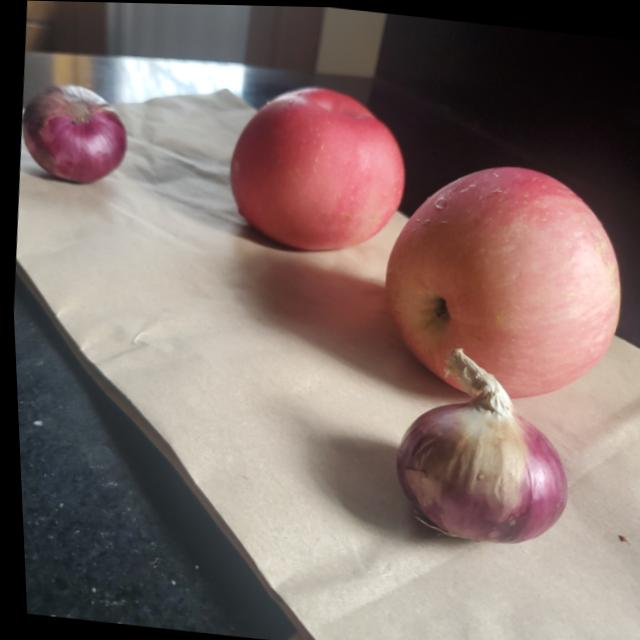apple: (369, 154, 634, 411), (216, 77, 411, 259)
onion: (380, 347, 571, 541), (14, 79, 131, 185)
